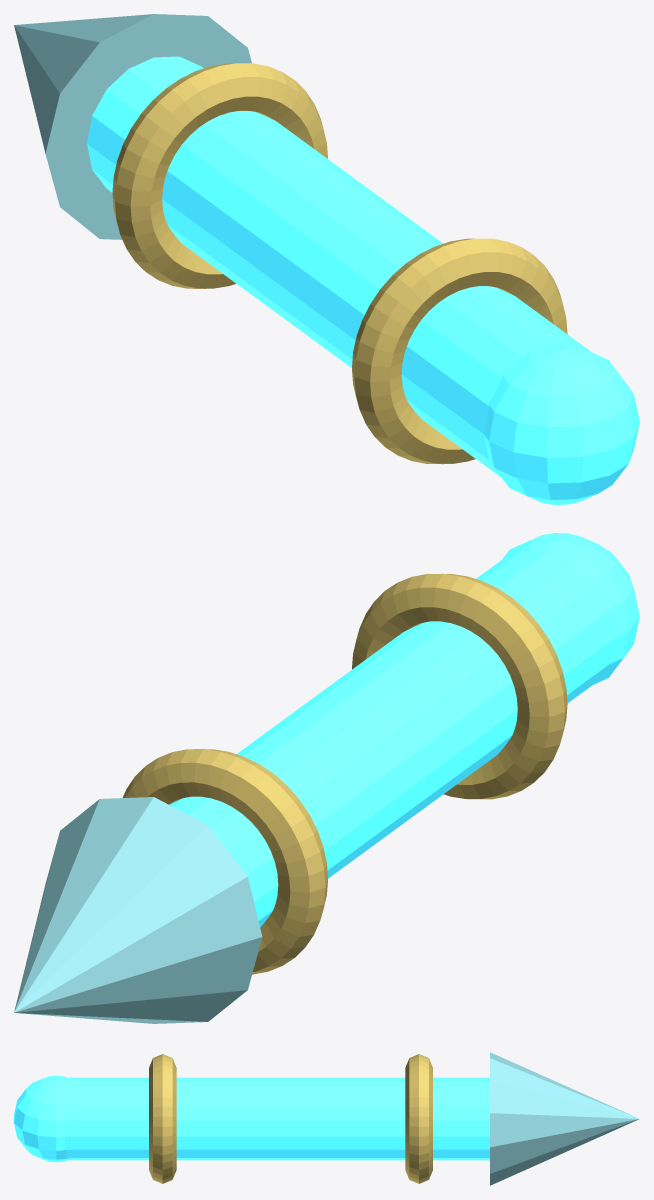
Rendered from energy-bolt.glb.
3 views of the same model, one above another, from view 1: azimuth 30°, elevation 25°; view 2: azimuth 150°, elevation 25°; view 3: azimuth 270°, elevation 25° (orthographic). The views are drawn at different scales.
Visible parts, largest first — view 1: Energy body, Energy band (×2), Pointed tip, Tail cap; view 2: Energy body, Pointed tip, Energy band (×2), Tail cap; view 3: Energy body, Pointed tip, Energy band (×2), Tail cap.
Part boxes in pixels (x1,y1,x2,y2): Energy body: [87, 56, 590, 476]; Energy band (×2): [112, 63, 567, 464]; Pointed tip: [14, 14, 251, 239]; Tail cap: [484, 343, 639, 504]; Energy body: [169, 550, 617, 927]; Pointed tip: [14, 797, 262, 1023]; Energy band (×2): [122, 573, 567, 974]; Tail cap: [501, 533, 639, 684]; Energy body: [65, 1077, 489, 1160]; Pointed tip: [490, 1052, 639, 1185]; Energy band (×2): [149, 1054, 432, 1183]; Tail cap: [14, 1075, 70, 1162].
Size of the model in its own units: 0.34 by 0.34 by 1.59.
